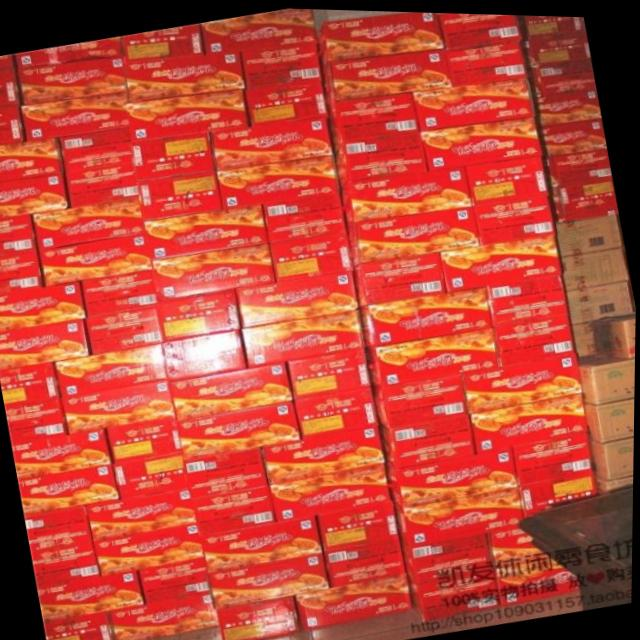box: (358, 283, 496, 344), (364, 326, 501, 385), (346, 204, 480, 264), (341, 163, 474, 223), (387, 443, 517, 504), (395, 484, 526, 544), (296, 571, 420, 630), (321, 46, 454, 101), (469, 389, 589, 449), (177, 399, 301, 457), (171, 360, 294, 418), (263, 423, 386, 481), (236, 267, 361, 324), (272, 462, 394, 520), (465, 351, 582, 411), (243, 308, 366, 365), (210, 114, 335, 170), (217, 152, 342, 208), (143, 202, 268, 258), (201, 515, 325, 571), (208, 552, 331, 608), (150, 242, 275, 297), (444, 232, 563, 289), (413, 73, 536, 128), (422, 113, 544, 167), (318, 10, 444, 62), (54, 343, 169, 398), (130, 88, 249, 141), (32, 195, 143, 251), (126, 50, 245, 101), (88, 486, 197, 541), (64, 382, 178, 434), (26, 505, 101, 584), (40, 233, 151, 286), (38, 570, 147, 623), (98, 524, 205, 575), (20, 464, 121, 518), (24, 90, 130, 141), (13, 430, 115, 482), (192, 474, 278, 535), (112, 592, 221, 640), (200, 7, 315, 52), (327, 91, 419, 147), (373, 372, 468, 426), (20, 58, 128, 105), (335, 129, 429, 183), (0, 318, 93, 372), (355, 250, 448, 304), (410, 565, 504, 618), (381, 413, 476, 465), (0, 280, 89, 334), (403, 531, 496, 581), (157, 287, 242, 339), (160, 326, 246, 377), (514, 428, 596, 481), (295, 384, 380, 435), (288, 345, 373, 396), (132, 130, 215, 182), (163, 328, 249, 378), (465, 152, 550, 202), (271, 228, 354, 279), (487, 272, 569, 323), (139, 170, 223, 219), (261, 191, 345, 240), (317, 500, 401, 549), (326, 537, 410, 586), (496, 312, 577, 362), (496, 555, 580, 603), (243, 78, 328, 125), (476, 193, 557, 242), (243, 37, 323, 86), (217, 595, 302, 640), (82, 269, 158, 317), (115, 450, 191, 498), (448, 37, 527, 83), (13, 35, 123, 68), (521, 468, 599, 513), (61, 125, 135, 172), (90, 306, 164, 353), (185, 445, 266, 486), (140, 557, 212, 603), (0, 174, 72, 219), (67, 161, 138, 206), (109, 420, 184, 462), (0, 137, 66, 184), (550, 175, 619, 219), (560, 244, 630, 287), (439, 10, 522, 46), (6, 398, 71, 443), (578, 351, 636, 401), (567, 278, 635, 320), (123, 22, 204, 57), (555, 211, 624, 252), (526, 56, 597, 94), (521, 28, 591, 65), (532, 86, 602, 123), (545, 145, 613, 183), (0, 363, 60, 406), (538, 116, 608, 151), (490, 525, 551, 564), (586, 394, 636, 439), (46, 612, 116, 640), (596, 309, 637, 354), (0, 248, 43, 290), (593, 433, 635, 474), (520, 12, 586, 35), (0, 215, 35, 252), (0, 105, 25, 144), (0, 68, 24, 107), (575, 318, 598, 353), (597, 472, 635, 491), (0, 54, 15, 68)
